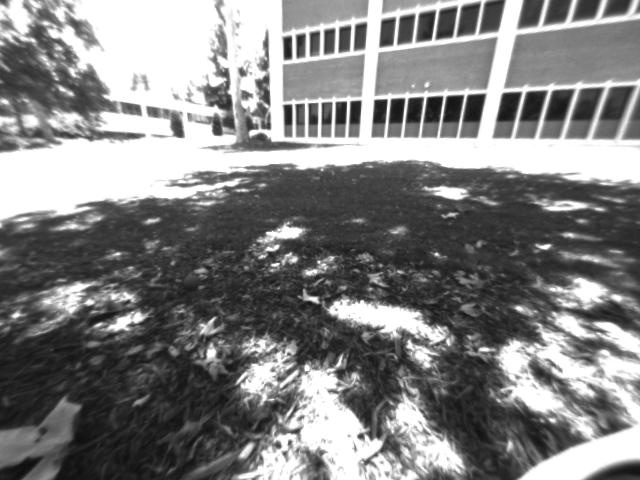dogtoy: (178, 271, 208, 293)
